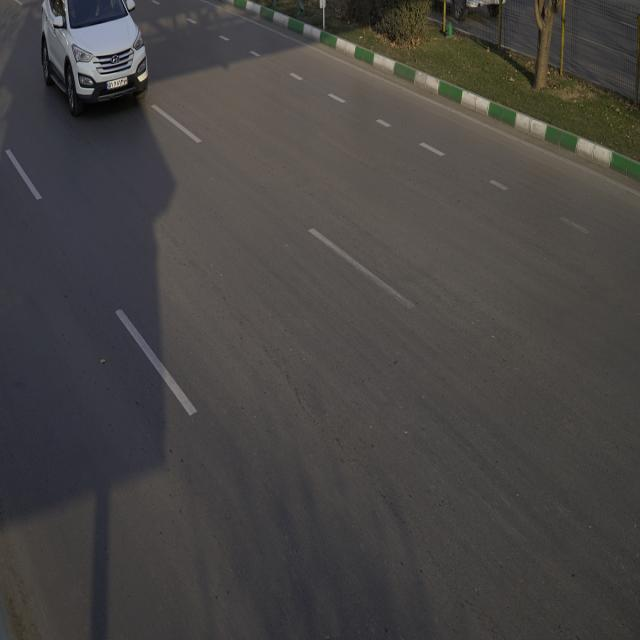truck: (41, 0, 150, 116)
